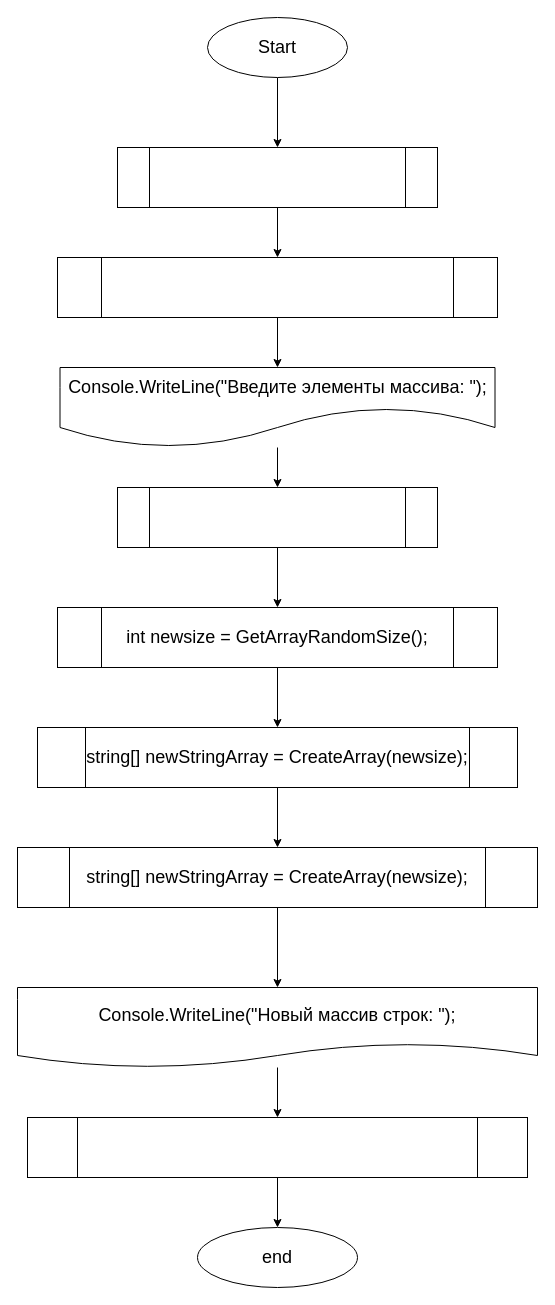
This 555x1305 diagram has some shape labels left out. The shapes that lost their labels are listed below. From the top down, each one's centre as x and y in pixels, then its label:
[277,177]: int size = GetArraySize();
[277,287]: string[] stringArray = CreateArray(size);
[277,517]: FillArray(stringArray);
[277,1147]: FillNewStringArray(stringArray, newStringArray);
